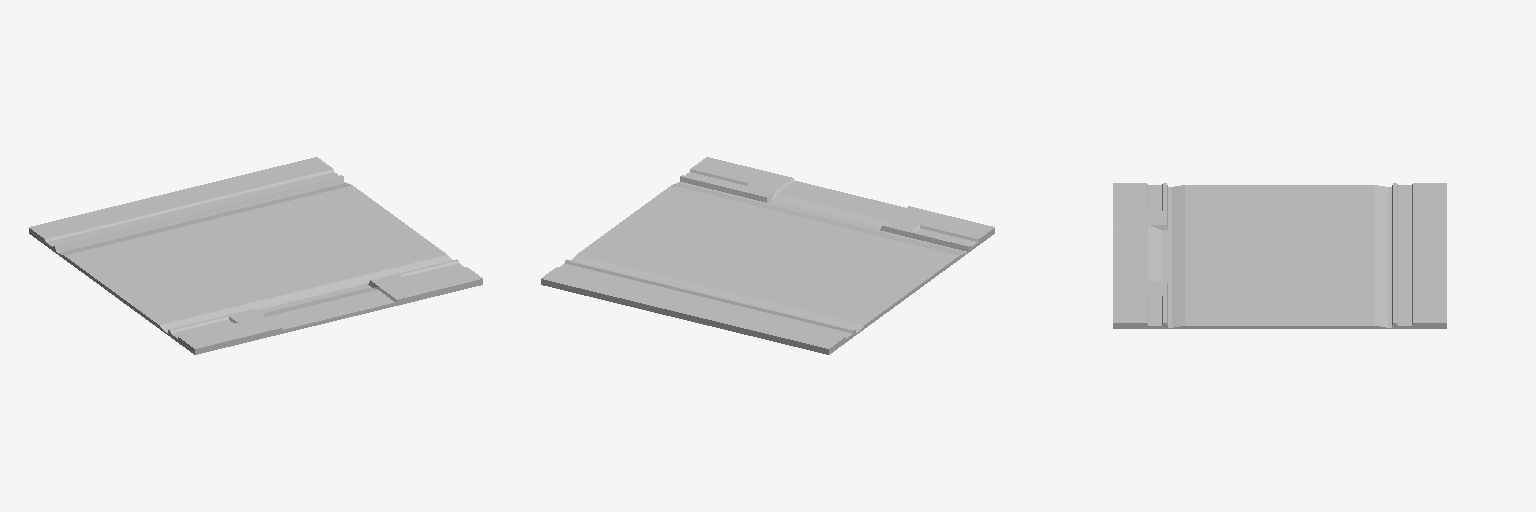
File: Road-2-Lane-Driveway.obj
3 views of the same model, side by side, from view 1: azimuth 30°, elevation 25°; view 2: azimuth 150°, elevation 25°; view 3: azimuth 270°, elevation 25° (orthographic).
Bounding box in the file's own units: 3600 × 72 × 3600.